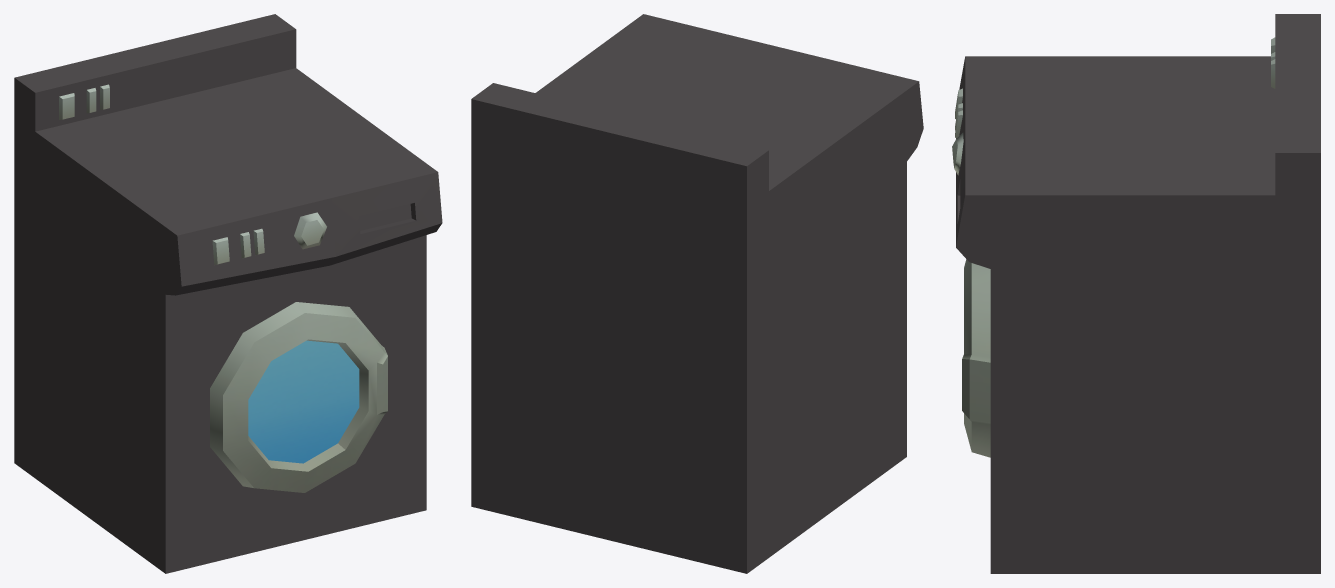
Rendered from SM_Dryer_Machine_1_02.fbx.
3 renders of one model, left to right at view 1: azimuth 30°, elevation 25°; view 2: azimuth 150°, elevation 25°; view 3: azimuth 270°, elevation 25°, orthographic. The views are drawn at different scales.
Visible parts, largest first — view 1: SM_Dryer_Machine_1_02; view 2: SM_Dryer_Machine_1_02; view 3: SM_Dryer_Machine_1_02.
Boxes of the visible parts, x1=… form: SM_Dryer_Machine_1_02: x1=14, y1=14, x2=442, y2=573; SM_Dryer_Machine_1_02: x1=471, y1=14, x2=923, y2=573; SM_Dryer_Machine_1_02: x1=952, y1=14, x2=1320, y2=573.
Size of the model in its own units: 85.63 by 121 by 96.05.
